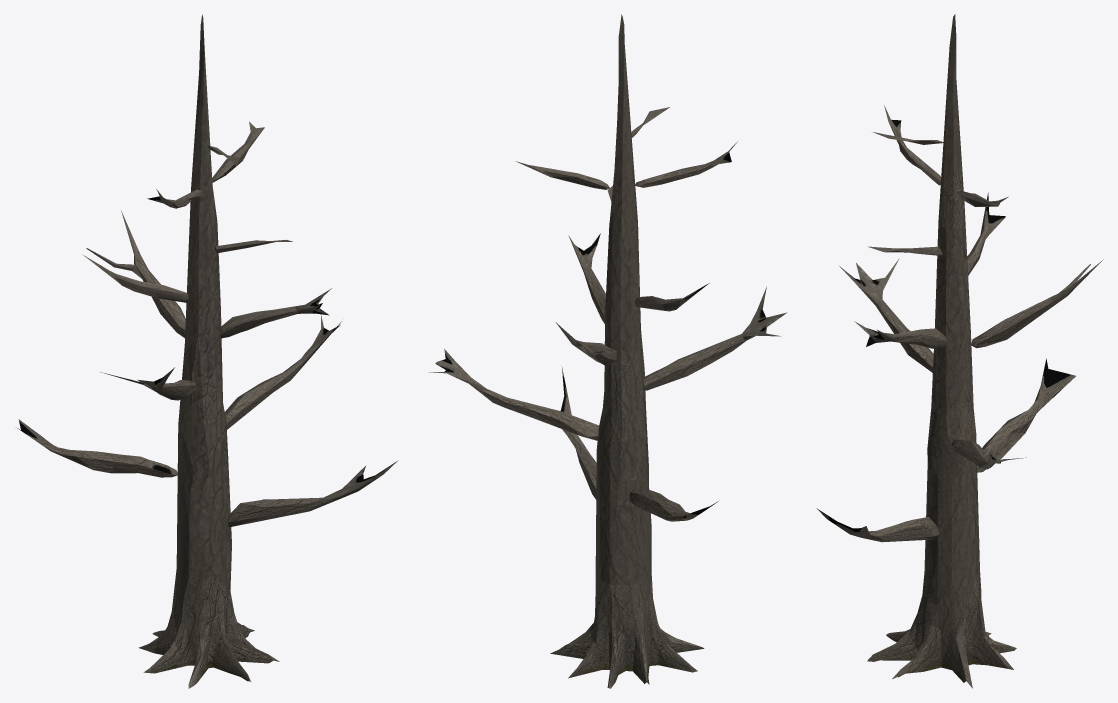
The picture shows the model from 3 angles, left to right: view 1: azimuth 30°, elevation 25°; view 2: azimuth 150°, elevation 25°; view 3: azimuth 270°, elevation 25°; orthographic projection.
Visible parts, largest first — view 1: output_unwrapped; view 2: output_unwrapped; view 3: output_unwrapped.
Boxes of the visible parts, x1,y1,x2,y2 form: output_unwrapped: [17, 14, 397, 688]; output_unwrapped: [429, 14, 787, 688]; output_unwrapped: [816, 14, 1103, 688].
Bounding box in the file's own units: 0.4843 × 0.9725 × 0.3932.
1 material, 1 textured.
